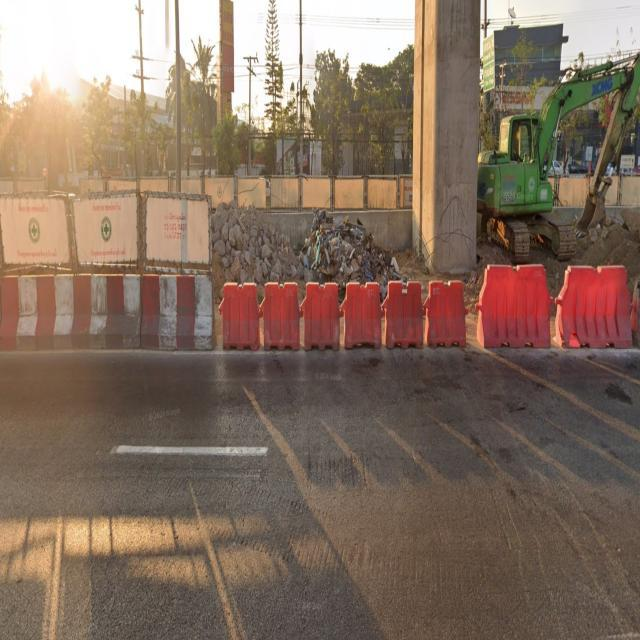fallen_object: (452, 212, 562, 371), (529, 242, 635, 356), (0, 273, 150, 351), (116, 262, 220, 357), (317, 273, 433, 348), (253, 260, 337, 353), (196, 280, 267, 362), (409, 272, 480, 351)
